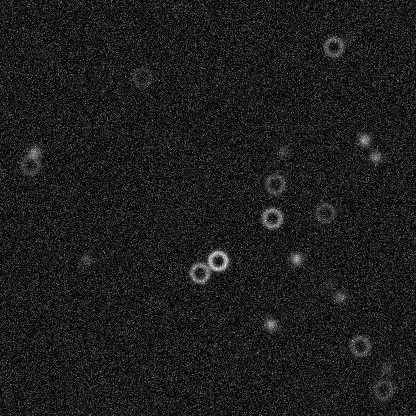Ring: (187, 260, 211, 284), (17, 152, 41, 176), (260, 205, 284, 229), (313, 200, 337, 224), (262, 172, 286, 196), (321, 34, 345, 58), (370, 377, 394, 401), (347, 333, 371, 357), (205, 248, 229, 272), (129, 64, 153, 88)
Spot: (274, 142, 290, 158), (321, 277, 337, 293), (262, 316, 278, 332), (288, 250, 304, 266), (78, 251, 94, 267), (339, 31, 355, 47), (367, 148, 383, 164), (356, 131, 372, 147), (378, 360, 394, 376), (26, 143, 42, 159), (331, 289, 347, 305)
